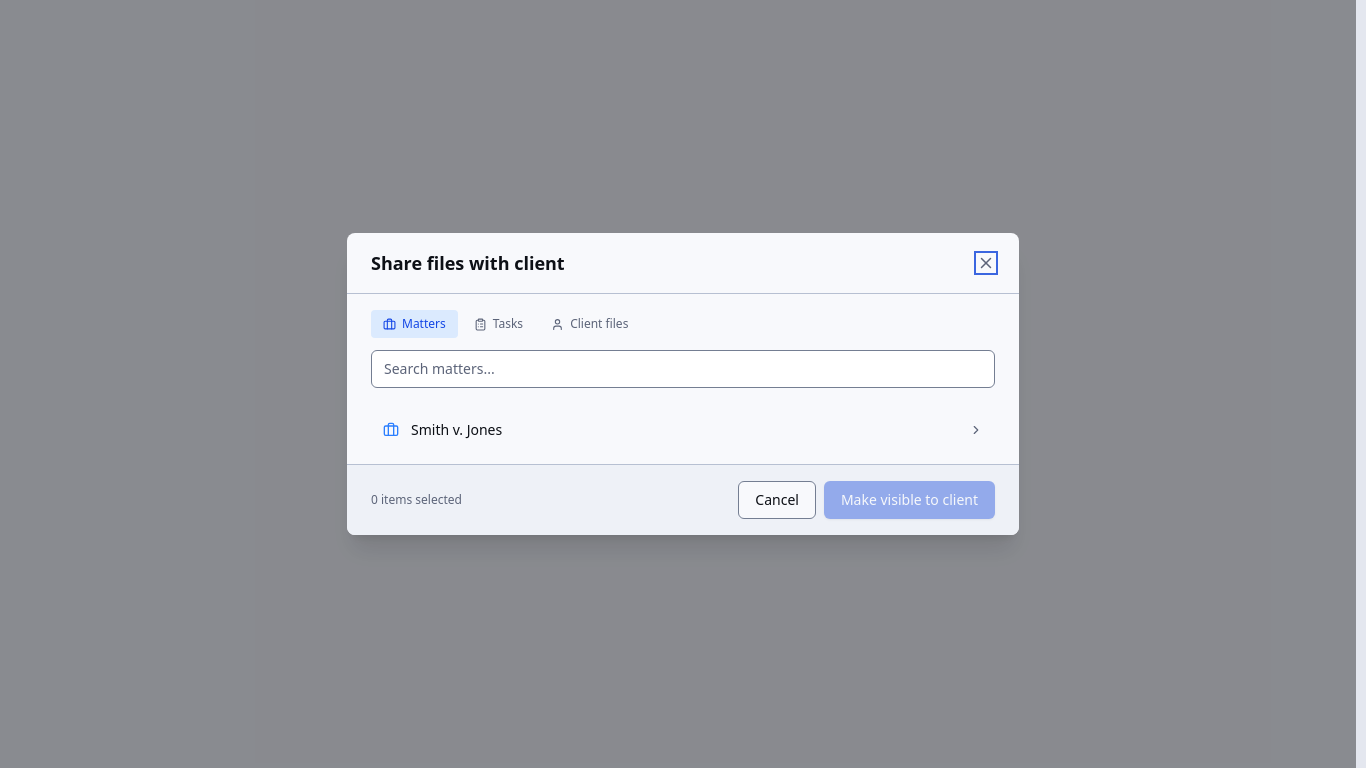
ClientShareFilePicker tab-switch race › keeps the task's files on screen, even when the matter tab's slower response arrives after it
This screenshot has width=1366, height=768.
Click the button "Smith v. Jones" at point(457, 430), box [371,408,995,452]
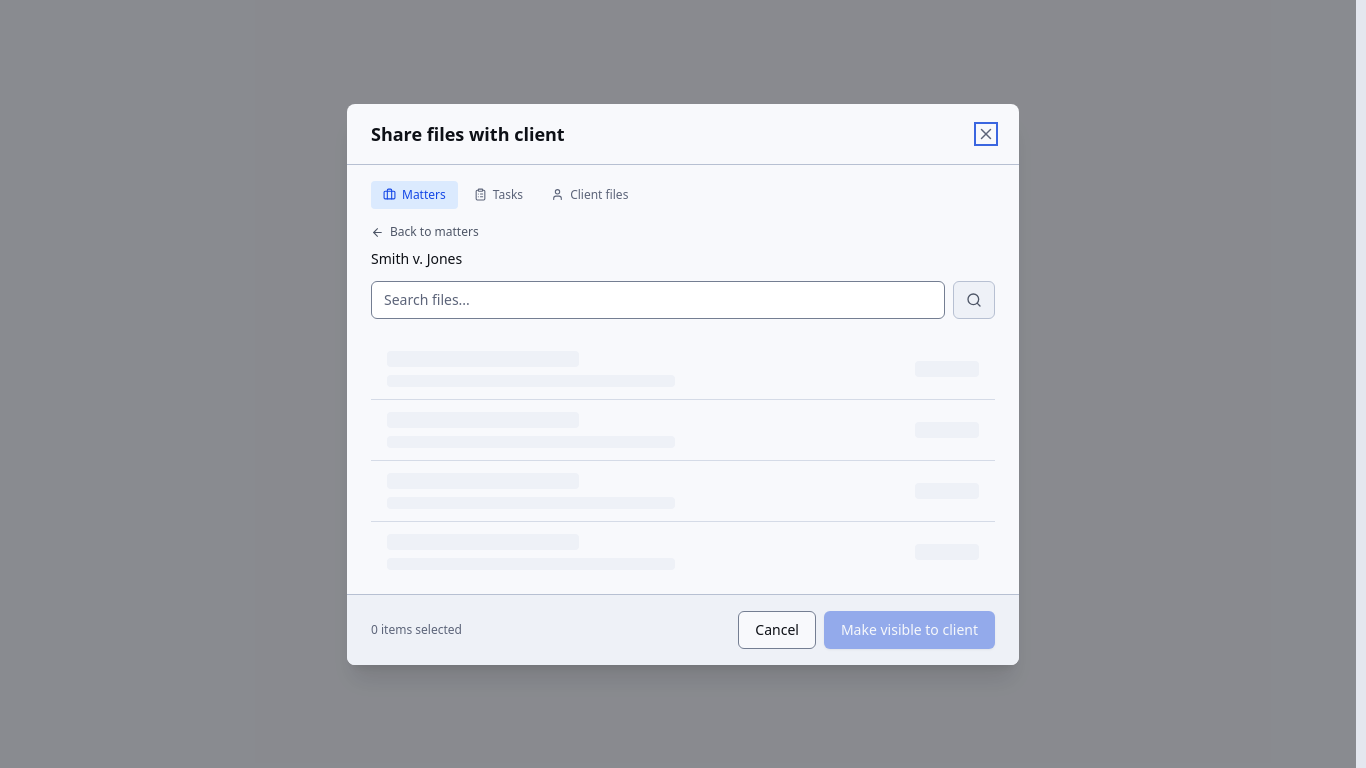
Click the button "Tasks" at point(498, 194), box [462,180,535,208]
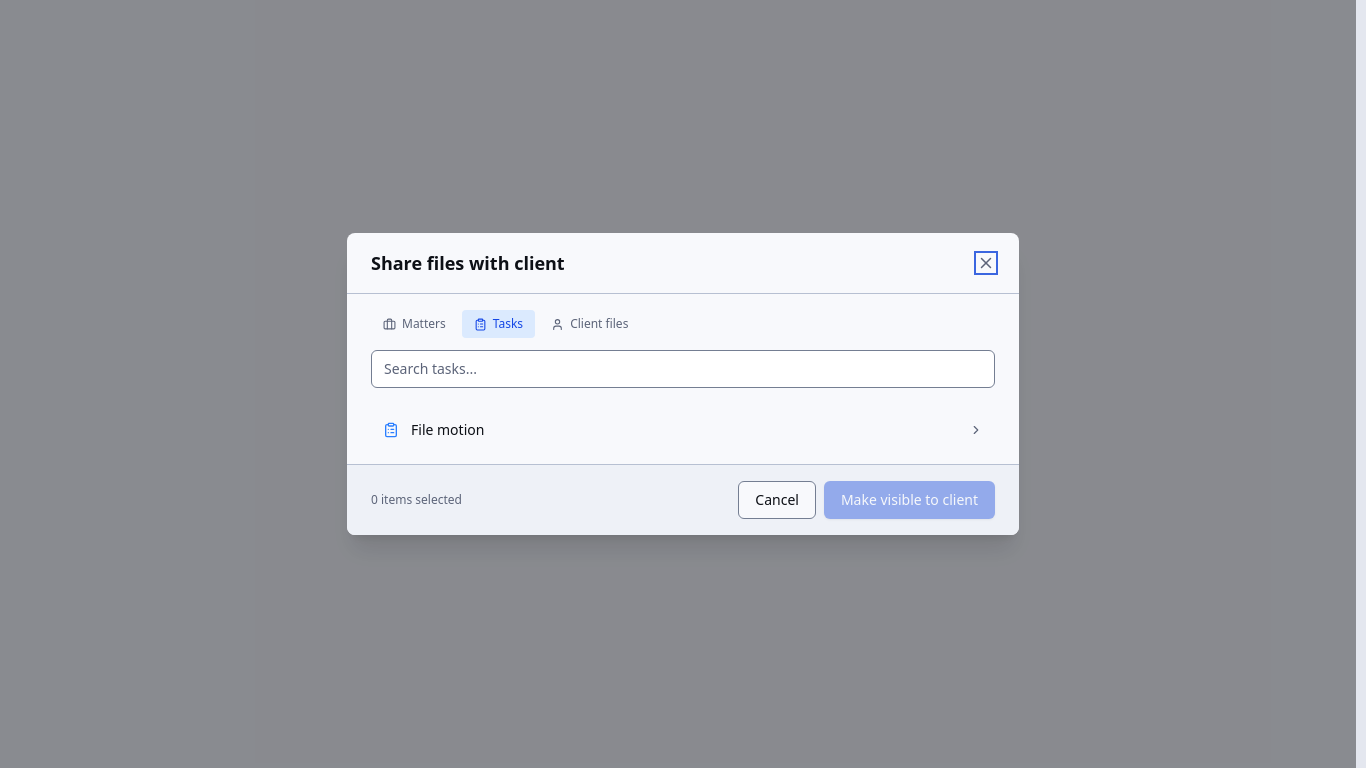
Click the button "File motion" at point(448, 430), box [371,408,995,452]
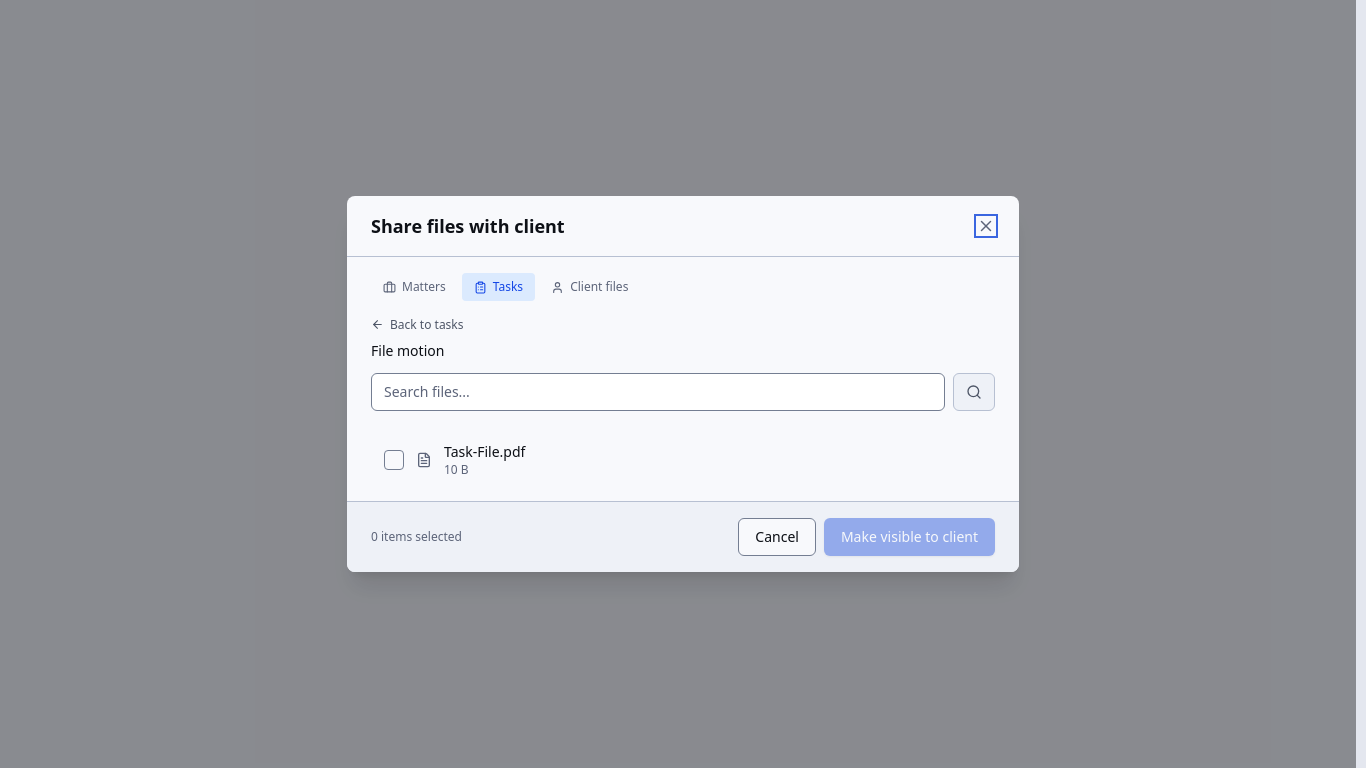
expect the text "Task-File.pdf" is shown: met, box [444,442,525,461]
